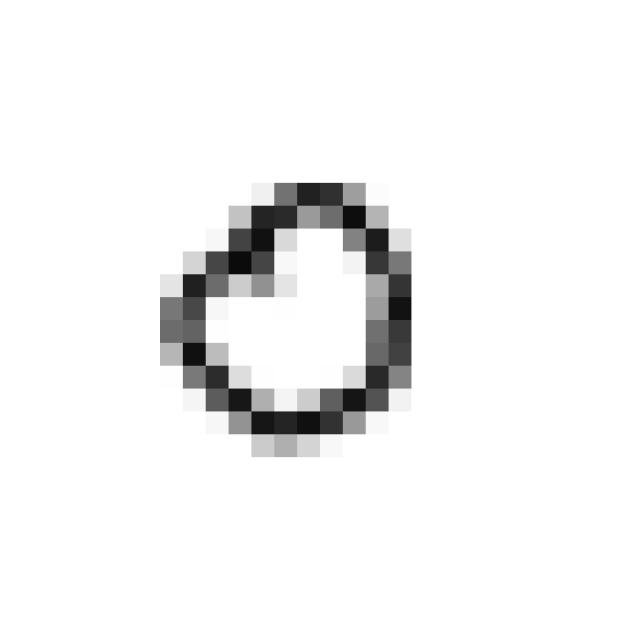5 -five-: (140, 162, 428, 460)
